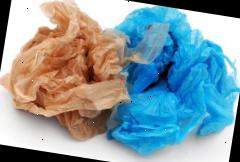plastic: (113, 6, 240, 160), (0, 0, 130, 139)
